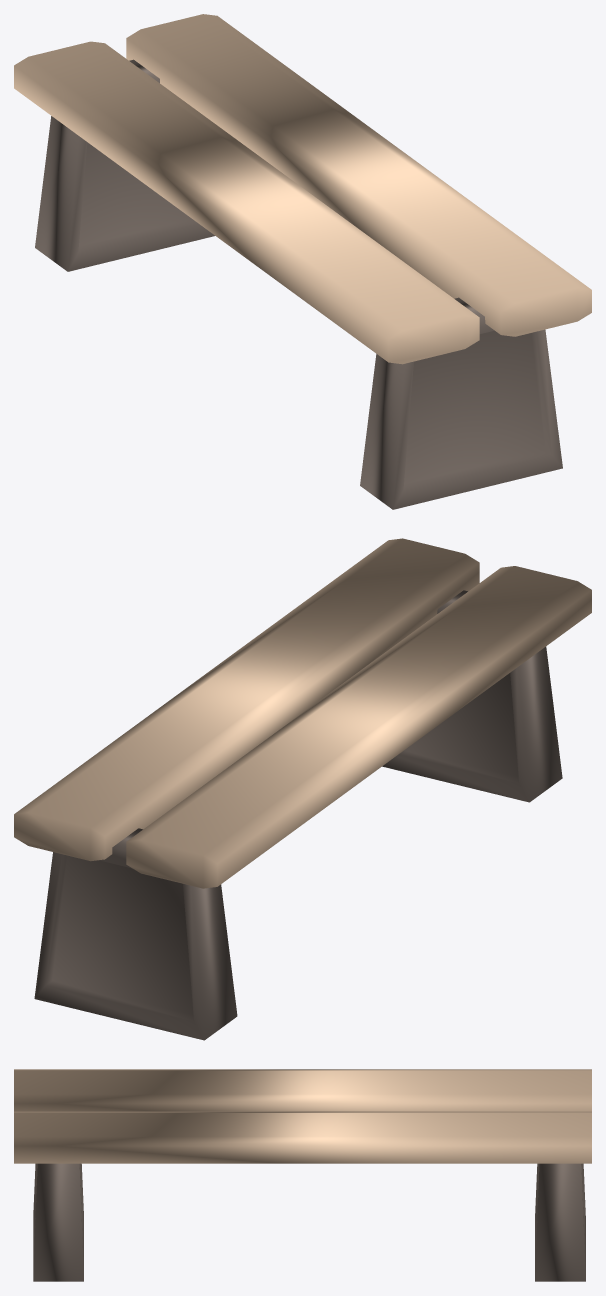
The model's file is becnhcone.fbx.
The picture shows the model from 3 angles, top to bottom: view 1: azimuth 30°, elevation 25°; view 2: azimuth 150°, elevation 25°; view 3: azimuth 270°, elevation 25°; orthographic projection. The views are drawn at different scales.
Visible parts, largest first — view 1: Cube.003; view 2: Cube.003; view 3: Cube.003.
Part boxes in pixels (<box>): Cube.003: <box>14,14,591,509</box>; Cube.003: <box>14,538,591,1040</box>; Cube.003: <box>14,1069,591,1281</box>.
Bounding box in the file's own units: 207 × 184 × 660.
